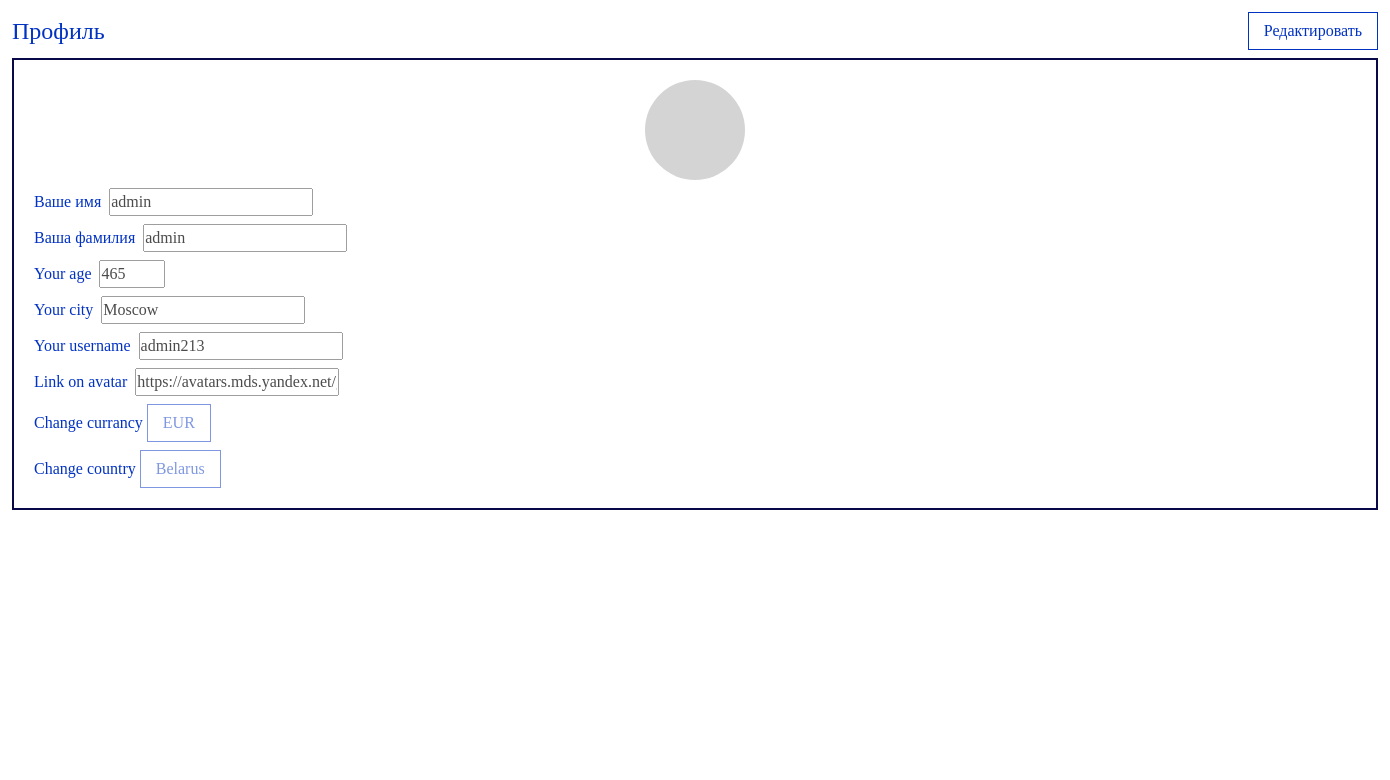
Test: EditableProfileCard › Change state profile error
The image size is (1390, 780).
Click the button with test id "EditableProfileCardHeader.EditButton" at (1313, 31), box top-left (1248, 12), bottom-right (1378, 50)
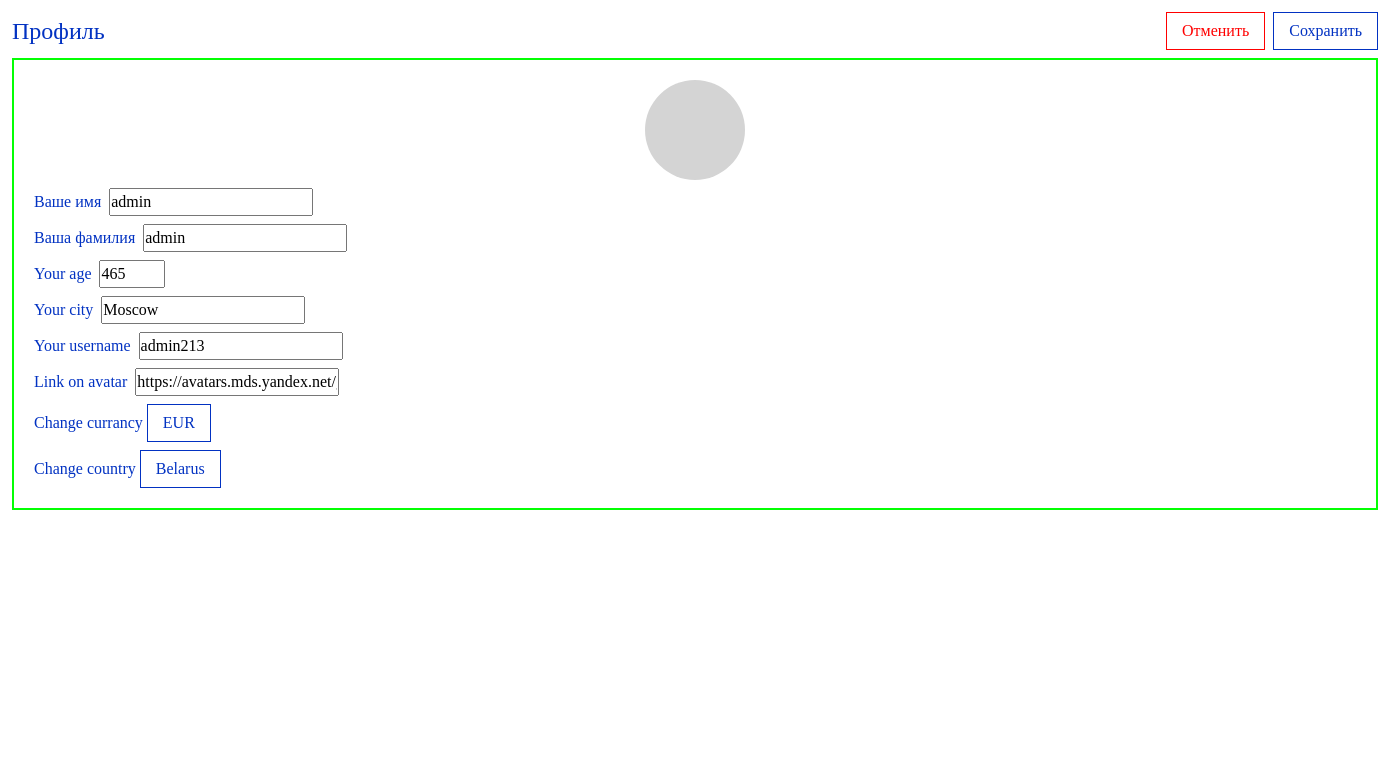
Clear the field with test id "ProfileCard.firstname" at (211, 202), box top-left (109, 188), bottom-right (313, 216)
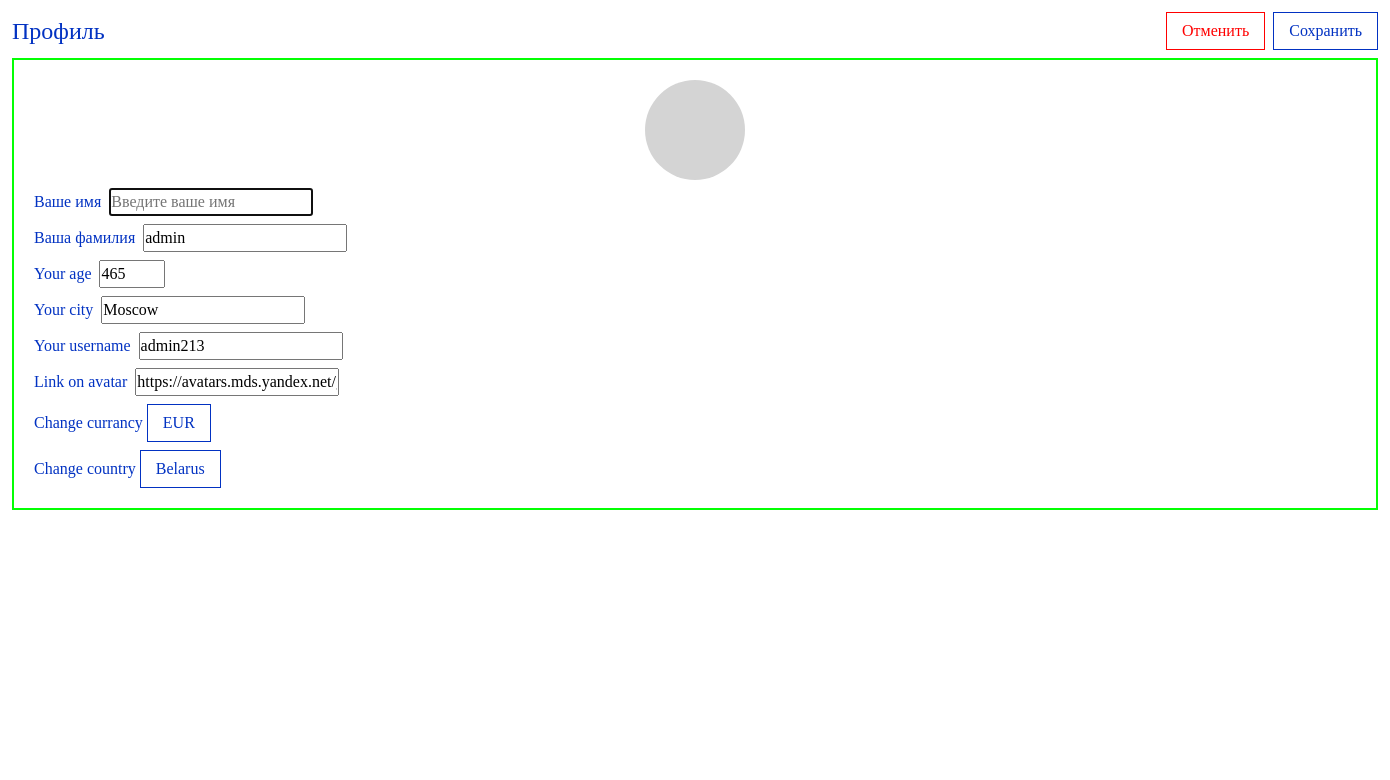
Click the button with test id "EditableProfileCardHeader.SaveButton" at (1326, 31), box top-left (1273, 12), bottom-right (1378, 50)
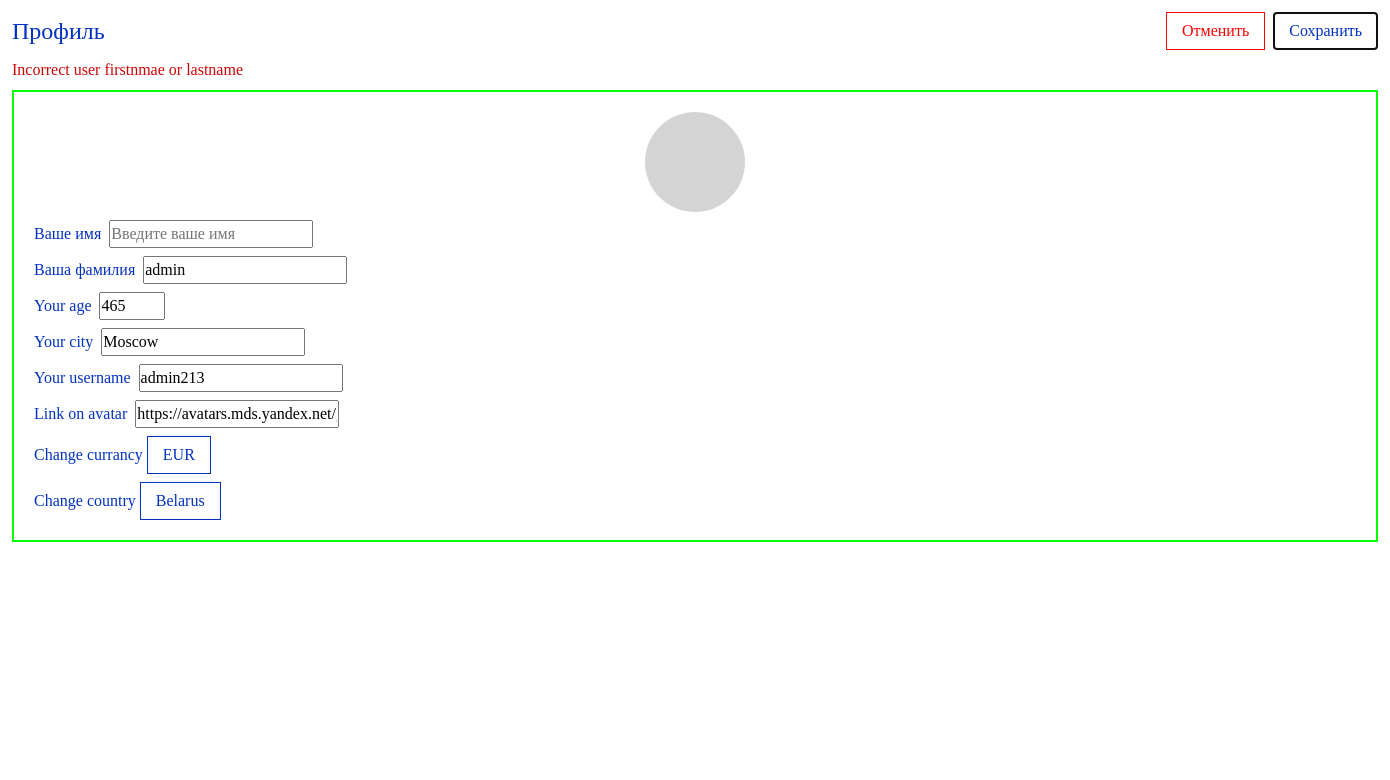
Check: the text "Incorrect user firstnmae or lastname" is shown, box top-left (12, 58), bottom-right (243, 82)
